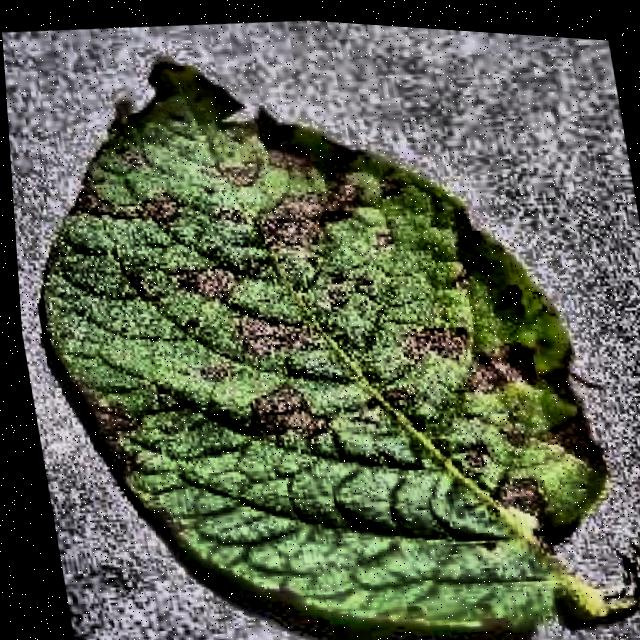Potato_leaf_early_blight: (44, 58, 640, 625)
